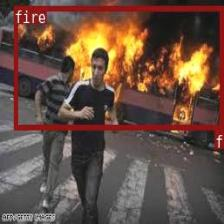fire: (14, 5, 222, 128), (214, 130, 222, 146)
